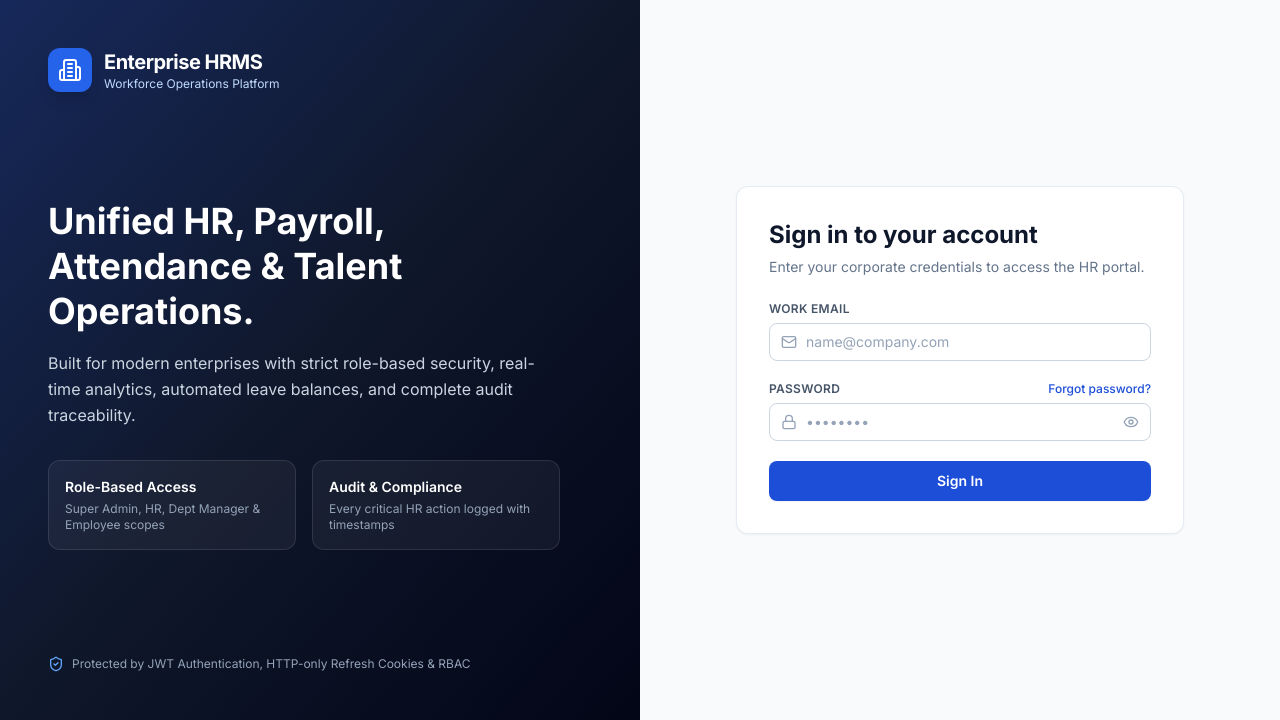
Test case: Frontend Component & Form Validation Tests › validates required email and password fields on LoginPage
The width and height of the screenshot is (1280, 720).
Click the button "Sign In": (960, 481) [769,461,1151,501]
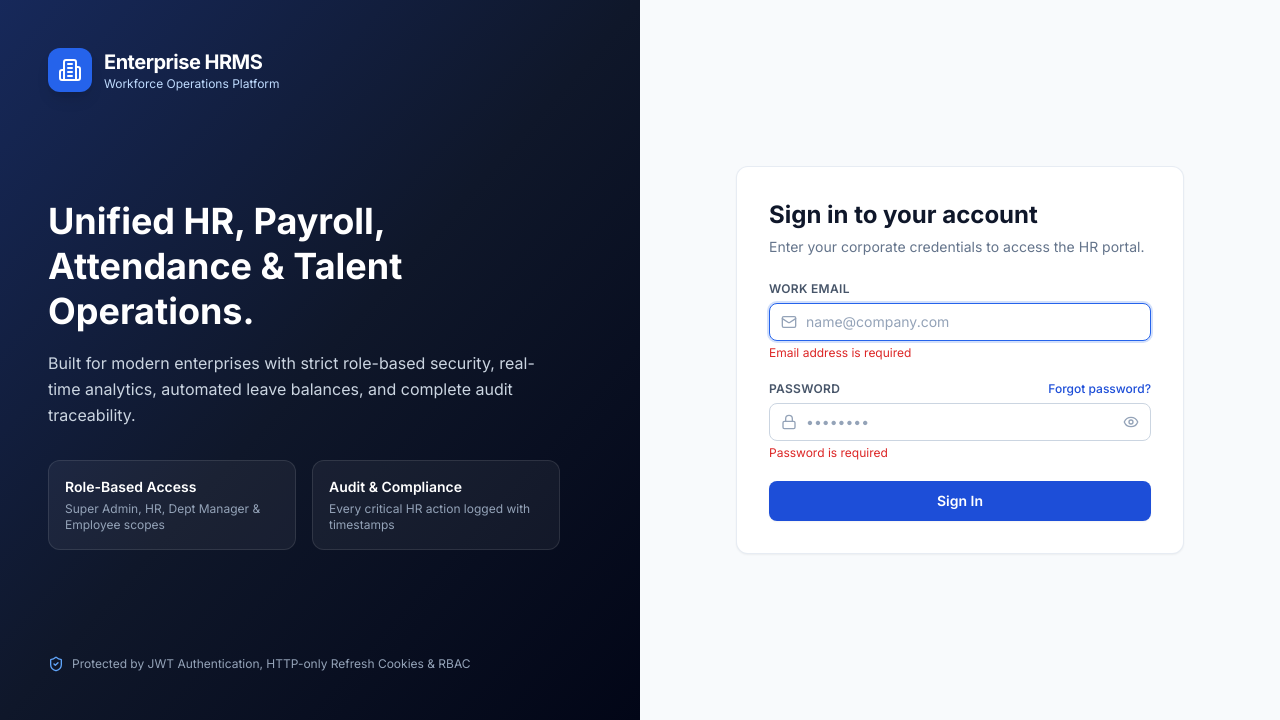
Now the text "Email address is required" is shown, box [769,345,911,360]
Now the text "Password is required" is shown, box [769,445,888,460]
